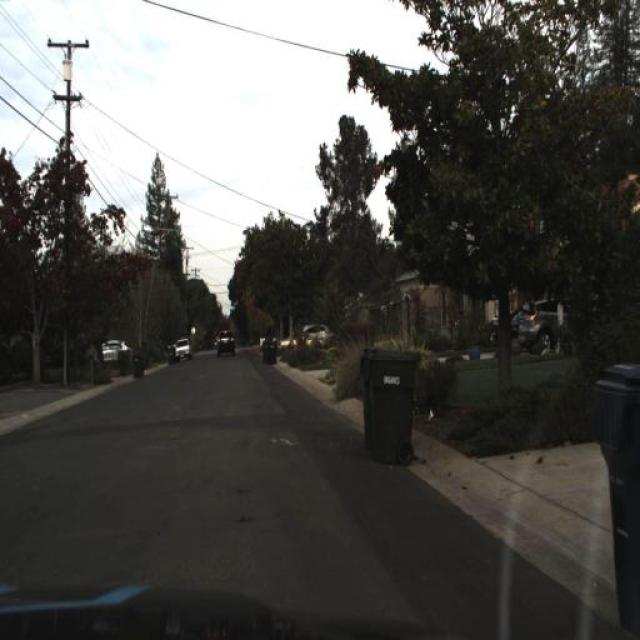car: (518, 295, 562, 357), (84, 331, 144, 370), (278, 324, 326, 364), (486, 300, 518, 352), (484, 305, 518, 353), (302, 306, 332, 335), (174, 330, 198, 365), (213, 328, 236, 361), (173, 336, 192, 362)
